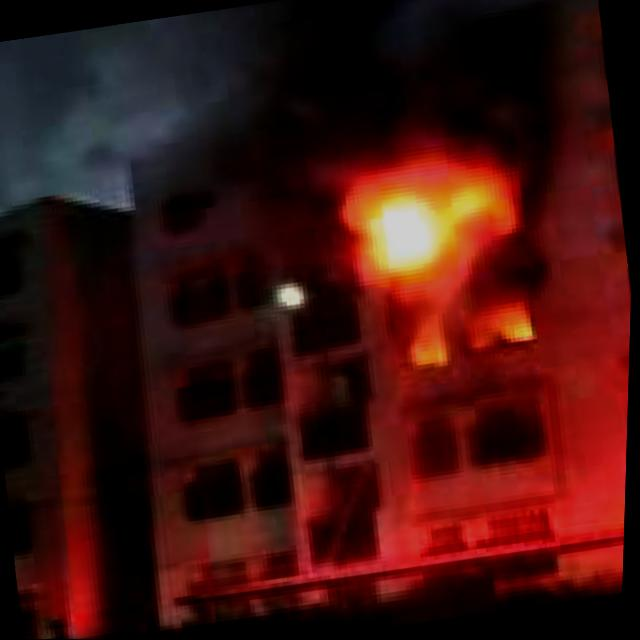smoke: (0, 0, 616, 218)
